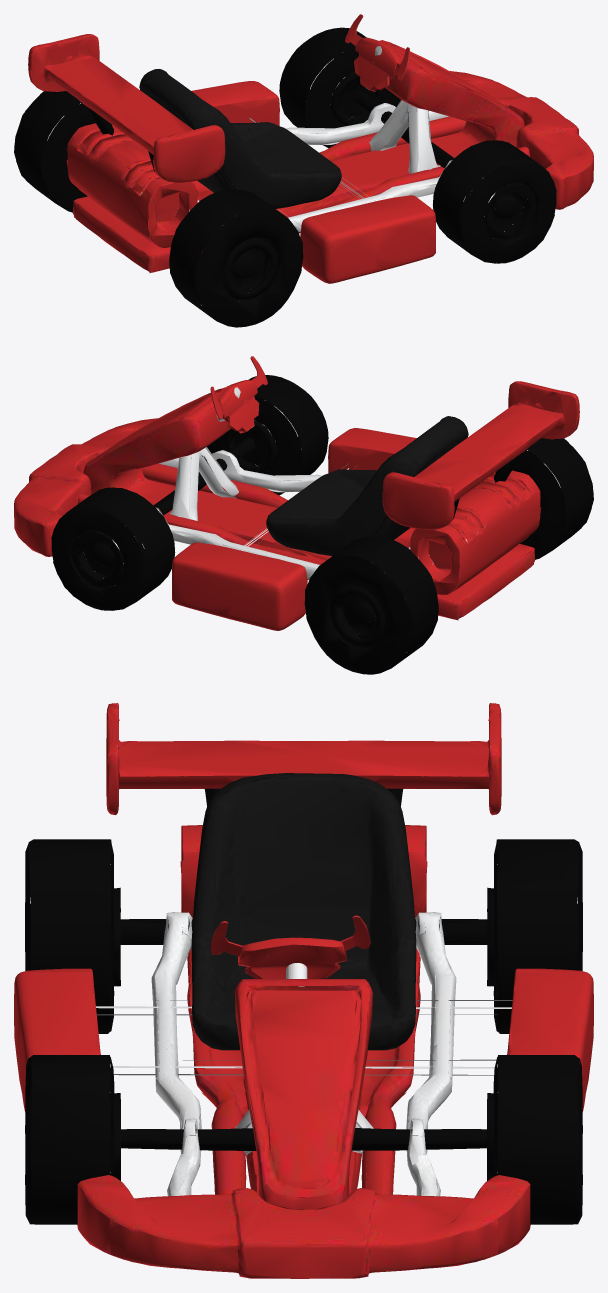
The model's file is veh-kart.glb.
3 renders of one model, top to bottom at view 1: azimuth 30°, elevation 25°; view 2: azimuth 150°, elevation 25°; view 3: azimuth 270°, elevation 25°, orthographic. The views are drawn at different scales.
Visible parts, largest first — view 1: root.0.0_gameasset_root.0.0_gameasset_Mat_1_0, root.3_gameasset_root.3_gameasset_Mat_1_0, root.5_gameasset_root.5_gameasset_Mat_1_0, root.0.2_gameasset_root.0.2_gameasset_Mat_1_0, root.1_gameasset_root.1_gameasset_Mat_1_0, root.7_gameasset_root.7_gameasset_Mat_1_0, root.0.3_gameasset_root.0.3_gameasset_Mat_1_0, root.4_gameasset_root.4_gameasset_Mat_1_0, root.0.1_gameasset_root.0.1_gameasset_Mat_1_0, root.2_gameasset_root.2_gameasset_Mat_1_0, root.6_gameasset_root.6_gameasset_Mat_1_0, root.9_gameasset_root.9_gameasset_Mat_1_0 (+4 smaller); view 2: root.0.0_gameasset_root.0.0_gameasset_Mat_1_0, root.2_gameasset_root.2_gameasset_Mat_1_0, root.4_gameasset_root.4_gameasset_Mat_1_0, root.0.2_gameasset_root.0.2_gameasset_Mat_1_0, root.1_gameasset_root.1_gameasset_Mat_1_0, root.6_gameasset_root.6_gameasset_Mat_1_0, root.0.3_gameasset_root.0.3_gameasset_Mat_1_0, root.5_gameasset_root.5_gameasset_Mat_1_0, root.0.1_gameasset_root.0.1_gameasset_Mat_1_0, root.3_gameasset_root.3_gameasset_Mat_1_0, root.7_gameasset_root.7_gameasset_Mat_1_0, root.9_gameasset_root.9_gameasset_Mat_1_0 (+4 smaller); view 3: root.1_gameasset_root.1_gameasset_Mat_1_0, root.0.0_gameasset_root.0.0_gameasset_Mat_1_0, root.0.1_gameasset_root.0.1_gameasset_Mat_1_0, root.0.2_gameasset_root.0.2_gameasset_Mat_1_0, root.4_gameasset_root.4_gameasset_Mat_1_0, root.5_gameasset_root.5_gameasset_Mat_1_0, root.3_gameasset_root.3_gameasset_Mat_1_0, root.2_gameasset_root.2_gameasset_Mat_1_0, root.6_gameasset_root.6_gameasset_Mat_1_0, root.7_gameasset_root.7_gameasset_Mat_1_0, root.0.5_gameasset_root.0.5_gameasset_Mat_1_0, root.0.4_gameasset_root.0.4_gameasset_Mat_1_0 (+6 smaller).
Boxes of the visible parts, <box> form: root.0.0_gameasset_root.0.0_gameasset_Mat_1_0: <box>72,40,530,273</box>; root.3_gameasset_root.3_gameasset_Mat_1_0: <box>169,189,303,327</box>; root.5_gameasset_root.5_gameasset_Mat_1_0: <box>433,140,556,263</box>; root.0.2_gameasset_root.0.2_gameasset_Mat_1_0: <box>28,34,225,182</box>; root.1_gameasset_root.1_gameasset_Mat_1_0: <box>139,69,341,208</box>; root.7_gameasset_root.7_gameasset_Mat_1_0: <box>300,195,435,283</box>; root.0.3_gameasset_root.0.3_gameasset_Mat_1_0: <box>66,123,197,247</box>; root.4_gameasset_root.4_gameasset_Mat_1_0: <box>279,27,400,148</box>; root.0.1_gameasset_root.0.1_gameasset_Mat_1_0: <box>450,71,593,209</box>; root.2_gameasset_root.2_gameasset_Mat_1_0: <box>14,91,95,212</box>; root.6_gameasset_root.6_gameasset_Mat_1_0: <box>191,81,279,125</box>; root.9_gameasset_root.9_gameasset_Mat_1_0: <box>369,100,440,173</box>; root.0.0_gameasset_root.0.0_gameasset_Mat_1_0: <box>78,387,534,620</box>; root.2_gameasset_root.2_gameasset_Mat_1_0: <box>304,536,438,674</box>; root.4_gameasset_root.4_gameasset_Mat_1_0: <box>51,487,175,610</box>; root.0.2_gameasset_root.0.2_gameasset_Mat_1_0: <box>382,381,579,530</box>; root.1_gameasset_root.1_gameasset_Mat_1_0: <box>266,416,468,556</box>; root.6_gameasset_root.6_gameasset_Mat_1_0: <box>172,542,307,630</box>; root.0.3_gameasset_root.0.3_gameasset_Mat_1_0: <box>410,470,541,595</box>; root.5_gameasset_root.5_gameasset_Mat_1_0: <box>207,375,328,495</box>; root.0.1_gameasset_root.0.1_gameasset_Mat_1_0: <box>14,418,158,556</box>; root.3_gameasset_root.3_gameasset_Mat_1_0: <box>512,438,593,559</box>; root.7_gameasset_root.7_gameasset_Mat_1_0: <box>328,428,416,473</box>; root.9_gameasset_root.9_gameasset_Mat_1_0: <box>169,447,238,520</box>; root.1_gameasset_root.1_gameasset_Mat_1_0: <box>191,773,416,1050</box>; root.0.0_gameasset_root.0.0_gameasset_Mat_1_0: <box>187,948,420,1220</box>; root.0.1_gameasset_root.0.1_gameasset_Mat_1_0: <box>77,1175,530,1278</box>; root.0.2_gameasset_root.0.2_gameasset_Mat_1_0: <box>106,703,501,815</box>; root.4_gameasset_root.4_gameasset_Mat_1_0: <box>487,1055,582,1224</box>; root.5_gameasset_root.5_gameasset_Mat_1_0: <box>25,1055,120,1224</box>; root.3_gameasset_root.3_gameasset_Mat_1_0: <box>25,839,120,1033</box>; root.2_gameasset_root.2_gameasset_Mat_1_0: <box>487,839,582,1033</box>; root.6_gameasset_root.6_gameasset_Mat_1_0: <box>507,968,593,1111</box>; root.7_gameasset_root.7_gameasset_Mat_1_0: <box>14,968,100,1111</box>; root.0.5_gameasset_root.0.5_gameasset_Mat_1_0: <box>406,912,456,1196</box>; root.0.4_gameasset_root.0.4_gameasset_Mat_1_0: <box>151,912,201,1196</box>.
Size of the model in its own units: 1.81 by 0.6704 by 1.28.
Materials: 23 (23 with a texture image).
